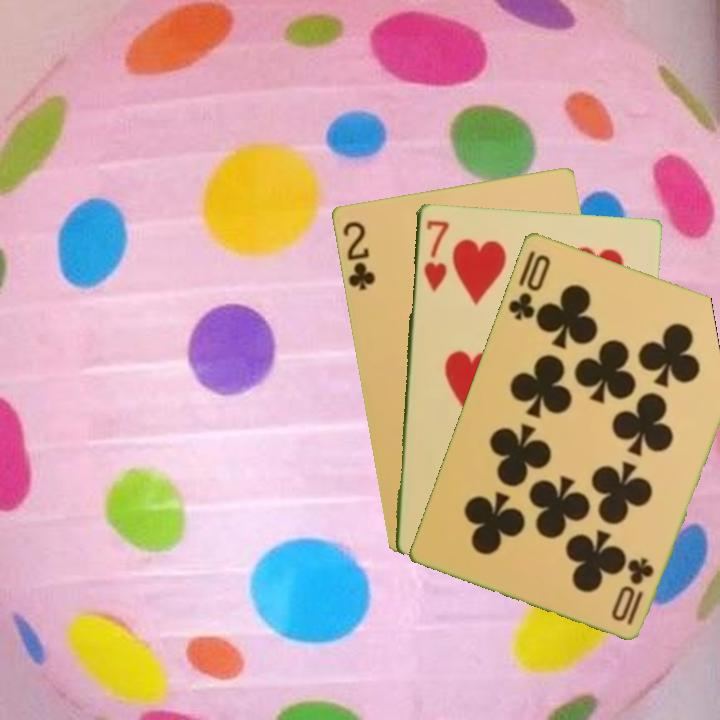10c: (504, 250, 553, 323), (623, 553, 657, 628)
2c: (338, 217, 378, 293)
7h: (420, 216, 451, 295)
